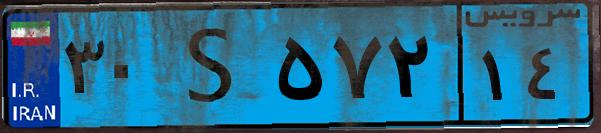0: (110, 28, 158, 98)
1: (475, 38, 525, 113)
2: (385, 28, 445, 110)
3: (57, 26, 110, 100)
4: (525, 38, 570, 115)
5: (270, 28, 330, 110)
7: (330, 28, 385, 110)
S: (158, 12, 270, 120)
